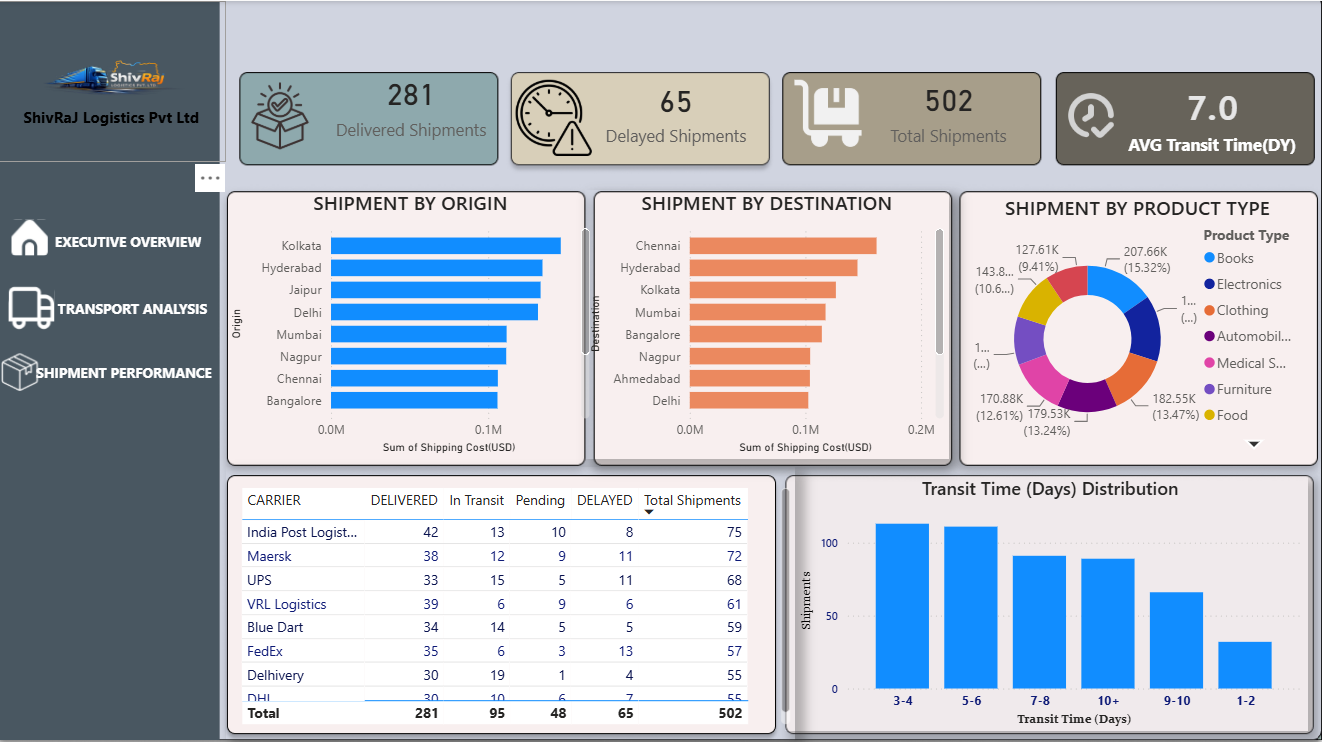

The page's visual inventory and layout, read from the dashboard file:
{"tool":"powerbi","page":{"name":"SHIPMENT PERFORMANCE","canvas":[1280,720],"ordinal":2},"visuals":[{"type":"image","box":[0,0,220.7,155.8],"z":0},{"type":"textbox","box":[0,97.1,220.6,38.2],"z":1000},{"type":"actionButton","box":[1.4,201.2,207,53.6],"z":2000},{"type":"actionButton","box":[4.3,270.7,207,52.1],"z":3000},{"type":"actionButton","box":[0,335.9,211.4,46.3],"z":4000},{"type":"clusteredBarChart","title":"SHIPMENT BY ORIGIN","fields":{"Y":["Sum(TransportLogisticsTable.Shipping Cost(USD))"],"Category":["TransportLogisticsTable.Origin"]},"box":[220.7,181.8,356.4,259.7],"z":5000},{"type":"clusteredBarChart","title":"SHIPMENT BY DESTINATION","fields":{"Y":["Sum(TransportLogisticsTable.Shipping Cost(USD))"],"Category":["TransportLogisticsTable.Destination"]},"box":[567,181.8,352,259.7],"z":6000},{"type":"donutChart","title":"SHIPMENT BY PRODUCT TYPE ","fields":{"Category":["TransportLogisticsTable.Product Type"],"Y":["Sum(TransportLogisticsTable.Shipping Cost(USD))"]},"box":[936.4,187.6,328.9,253.9],"z":7000},{"type":"tableEx","fields":{"Values":["TransportLogisticsTable.Carrier","TransportLogisticsTable.Delivered Shipments","TransportLogisticsTable.In Transit","TransportLogisticsTable.Pending","TransportLogisticsTable.Delayed Shipments","TransportLogisticsTable.Total Shipments"]},"box":[220.7,450.1,549.7,264],"z":8000},{"type":"clusteredColumnChart","title":"Transit Time (Days) Distribution","fields":{"Category":["TransportLogisticsTable.Transit Time Group"],"Y":["CountNonNull(TransportLogisticsTable.Shipment ID)"]},"box":[760.3,458.8,505,246.7],"z":9000},{"type":"card","fields":{"Values":["TransportLogisticsTable.Average Transit Time"]},"box":[1056.1,62,223.6,85.1],"z":10000},{"type":"card","fields":{"Values":["TransportLogisticsTable.Total Shipments"]},"box":[813.7,23.1,210.6,164.5],"z":11000},{"type":"card","fields":{"Values":["TransportLogisticsTable.Delayed Shipments"]},"box":[549.7,11.5,210.6,187.6],"z":12000},{"type":"card","fields":{"Values":["TransportLogisticsTable.Delivered Shipments"]},"box":[285.7,5.8,210.6,199.1],"z":13000},{"type":"image","box":[1021.5,85.1,67.8,50.5],"z":14000},{"type":"image","box":[210.6,77.9,124.1,64.9],"z":15000},{"type":"image","box":[760.3,76.5,83.7,65],"z":16000},{"type":"image","box":[474.7,76.5,127,73.6],"z":17000}]}

Visuals, with their boxes on the page's 1280x720 design canvas (x1, y1, x2, y2). These are canvas units, not pixel positions in the 1322x742 screenshot, which may show the page scaled, cropped or inside an application window:
image: box(0, 0, 221, 156)
textbox: box(0, 97, 221, 135)
actionButton: box(1, 201, 208, 255)
actionButton: box(4, 271, 211, 323)
actionButton: box(0, 336, 211, 382)
"SHIPMENT BY ORIGIN" clusteredBarChart: box(221, 182, 577, 442)
"SHIPMENT BY DESTINATION" clusteredBarChart: box(567, 182, 919, 442)
"SHIPMENT BY PRODUCT TYPE " donutChart: box(936, 188, 1265, 442)
tableEx - TransportLogisticsTable.Carrier x TransportLogisticsTable.Delivered Shipments: box(221, 450, 770, 714)
"Transit Time (Days) Distribution" clusteredColumnChart: box(760, 459, 1265, 706)
card - TransportLogisticsTable.Average Transit Time: box(1056, 62, 1280, 147)
card - TransportLogisticsTable.Total Shipments: box(814, 23, 1024, 188)
card - TransportLogisticsTable.Delayed Shipments: box(550, 12, 760, 199)
card - TransportLogisticsTable.Delivered Shipments: box(286, 6, 496, 205)
image: box(1022, 85, 1089, 136)
image: box(211, 78, 335, 143)
image: box(760, 76, 844, 142)
image: box(475, 76, 602, 150)
